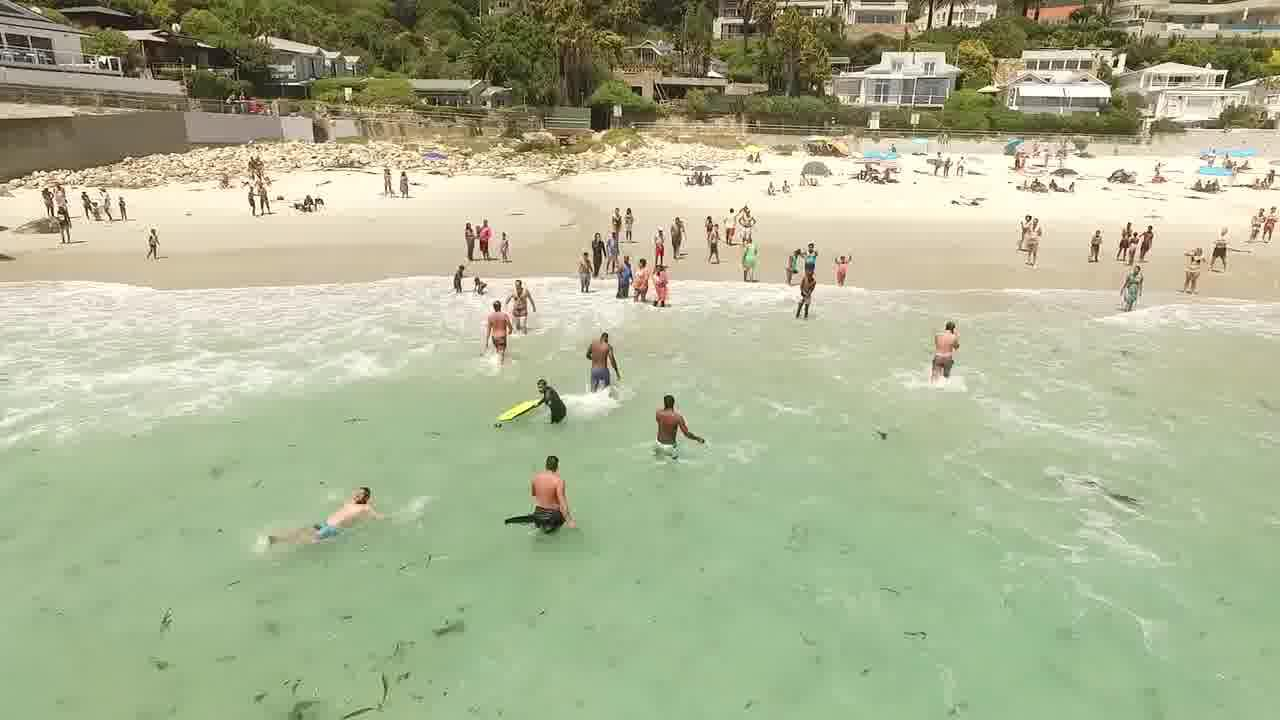swimmer: (268, 474, 393, 549)
